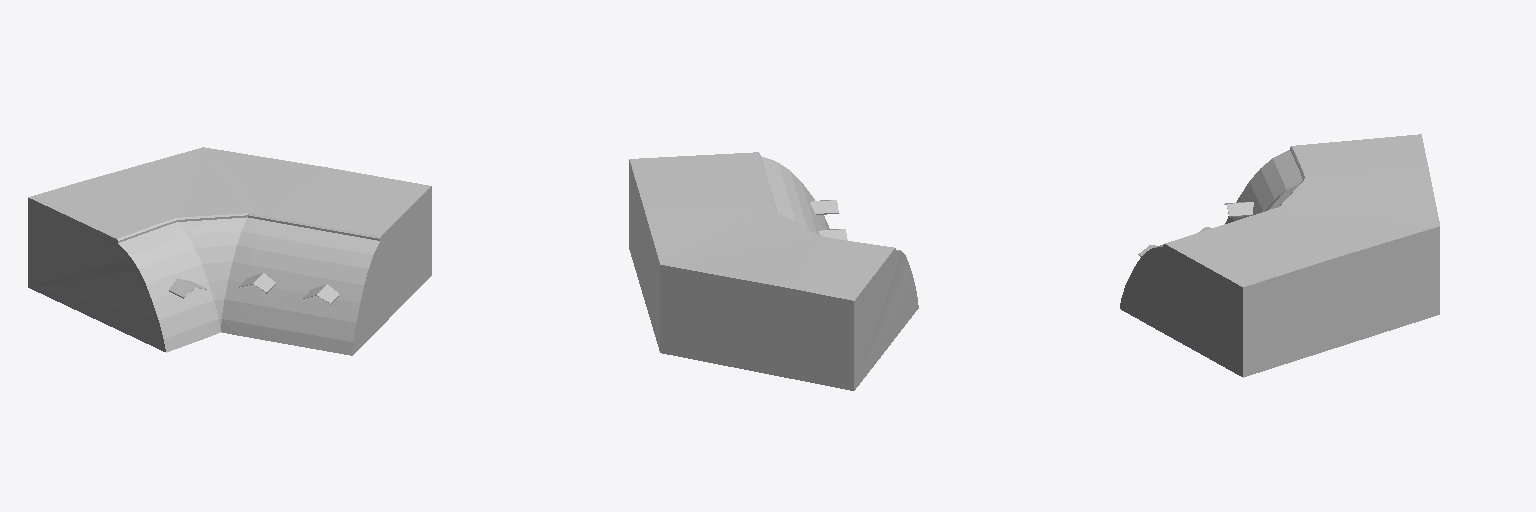
3 views of the same model, side by side, from view 1: azimuth 30°, elevation 25°; view 2: azimuth 150°, elevation 25°; view 3: azimuth 270°, elevation 25° (orthographic).
Visible parts, largest first — view 1: Bistro_Research_Exterior_Paris_Building_08_paris_buildi_a59abac; view 2: Bistro_Research_Exterior_Paris_Building_08_paris_buildi_a59abac; view 3: Bistro_Research_Exterior_Paris_Building_08_paris_buildi_a59abac.
Boxes of the visible parts, box(x1,y1,x2,y2) form: Bistro_Research_Exterior_Paris_Building_08_paris_buildi_a59abac: box(28, 147, 431, 355); Bistro_Research_Exterior_Paris_Building_08_paris_buildi_a59abac: box(629, 152, 918, 390); Bistro_Research_Exterior_Paris_Building_08_paris_buildi_a59abac: box(1120, 134, 1439, 377).
Size of the model in its own units: 24.93 by 6.85 by 22.04.